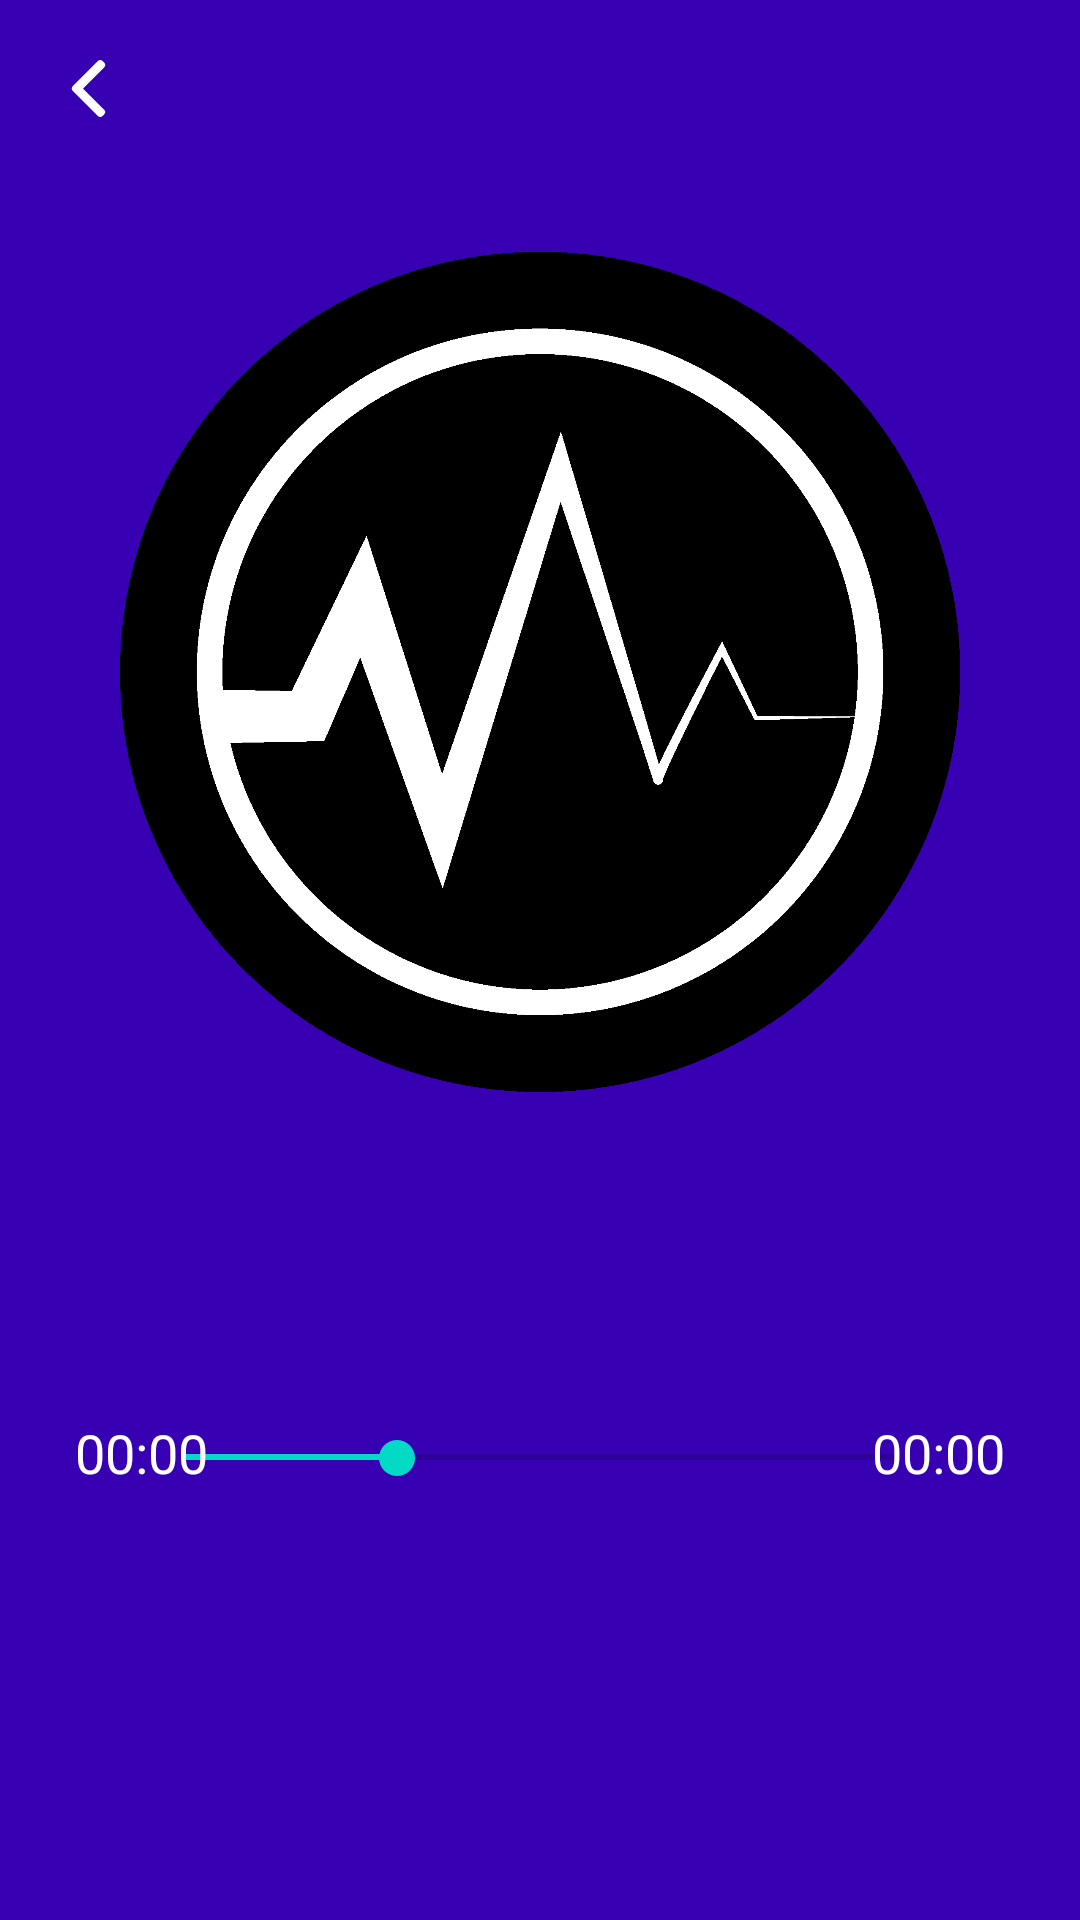

Where to tap for icons on this 1080x1920 app screen, as [x,y]:
back: [88,88]
